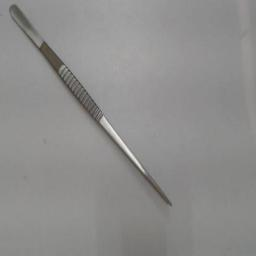DeBakey Dissector: (2, 2, 186, 224)
